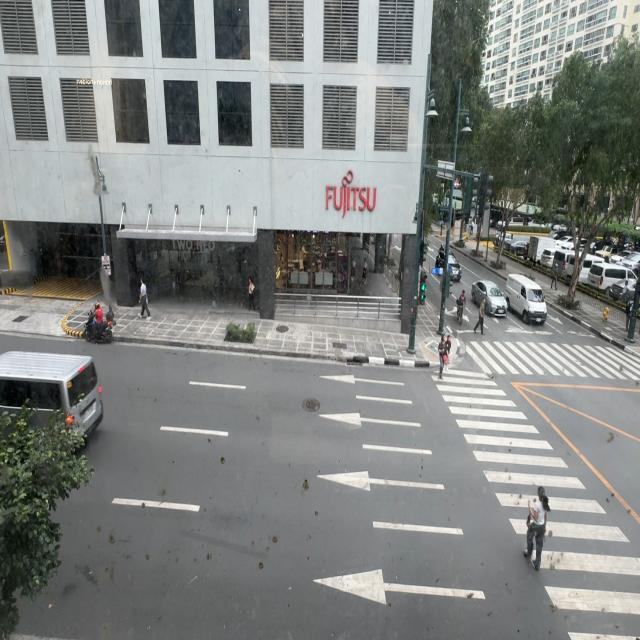crossing: (515, 482, 553, 576), (438, 334, 447, 379)
jaywalking: (474, 296, 486, 336)
waiting: (444, 335, 452, 366)
